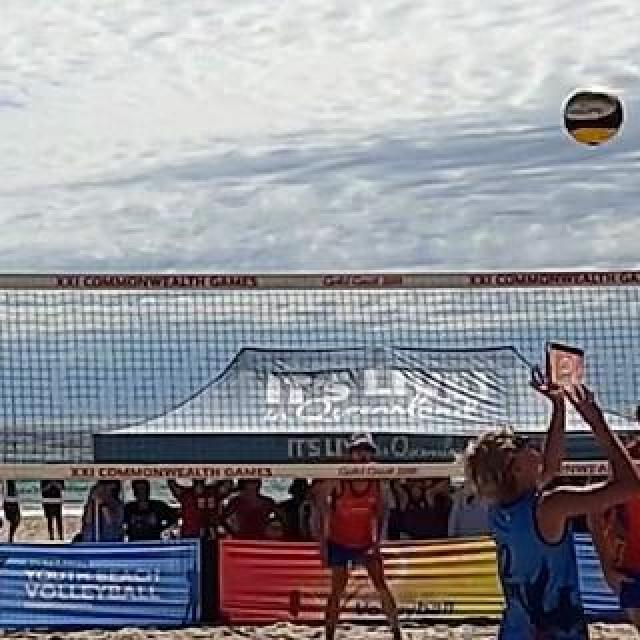volleyball: (564, 87, 624, 145)
